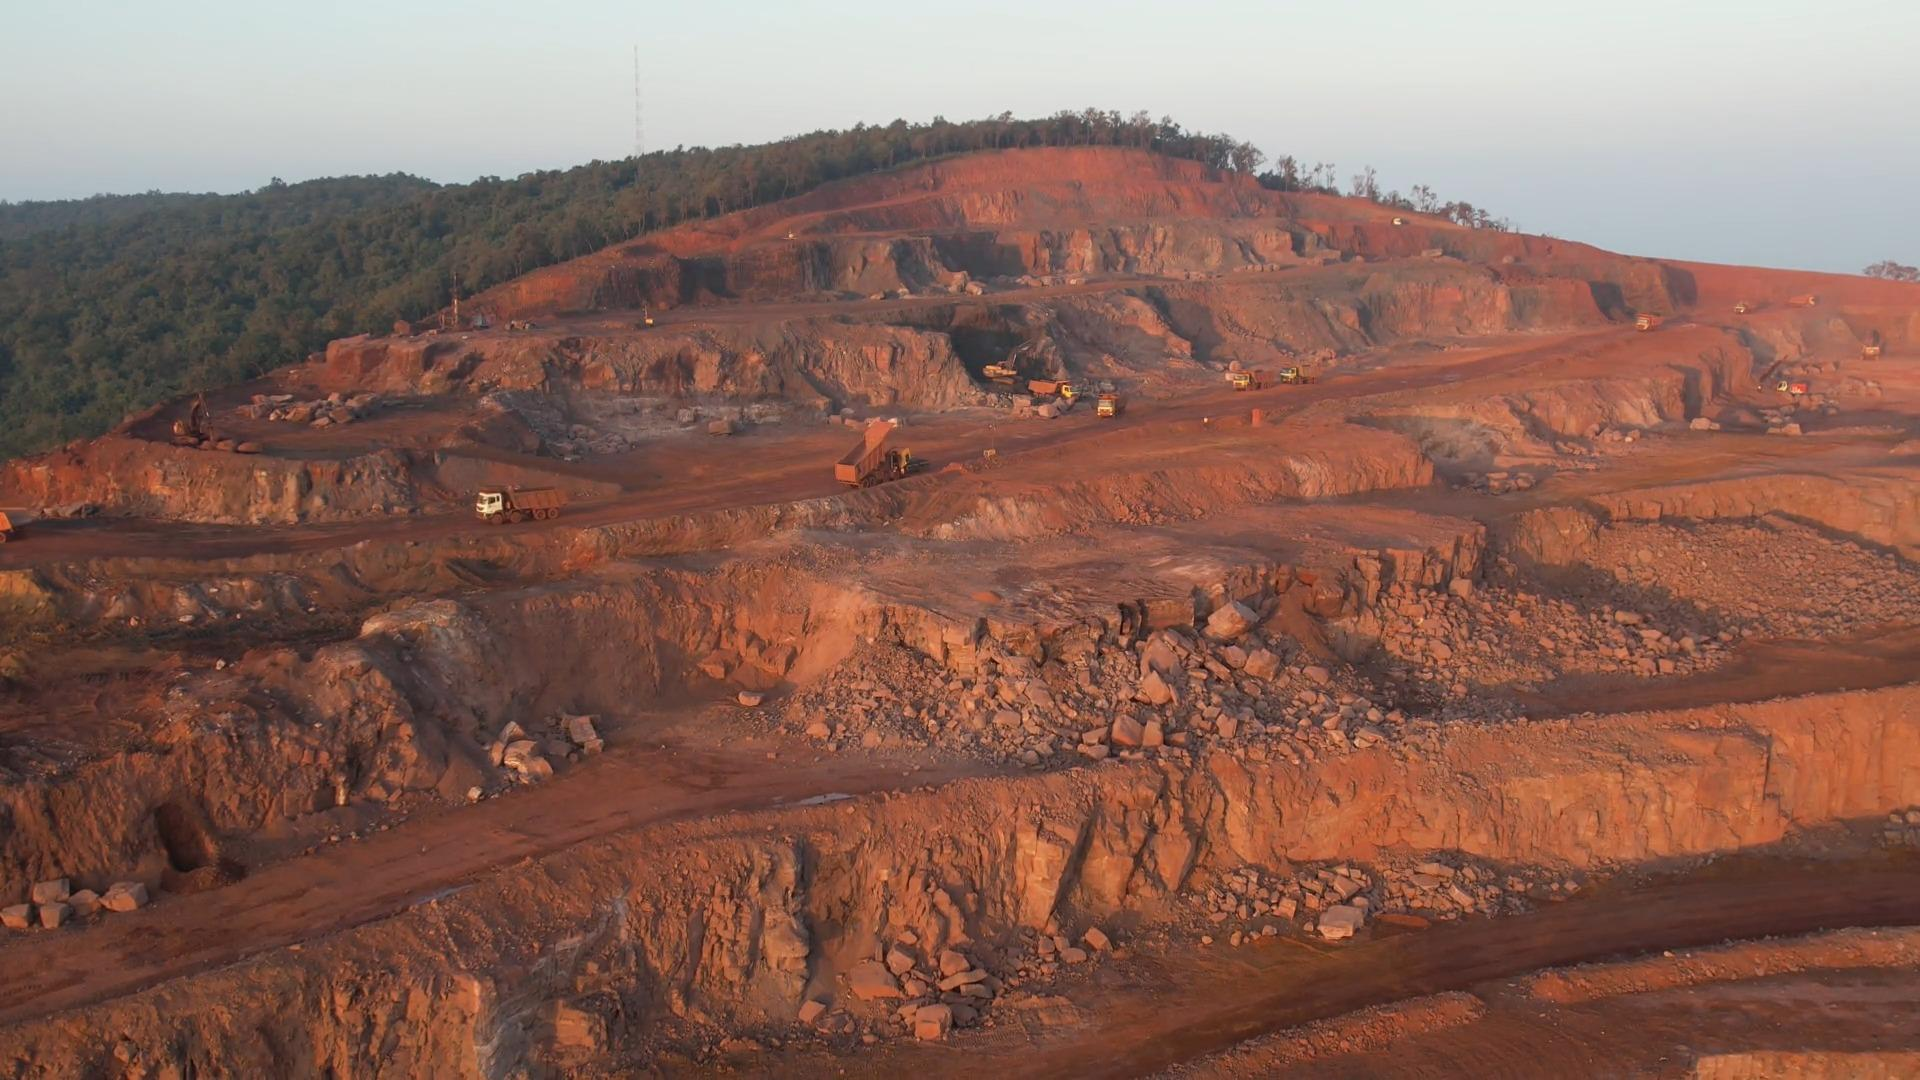excavator: (173, 386, 218, 447), (982, 356, 1023, 384)
